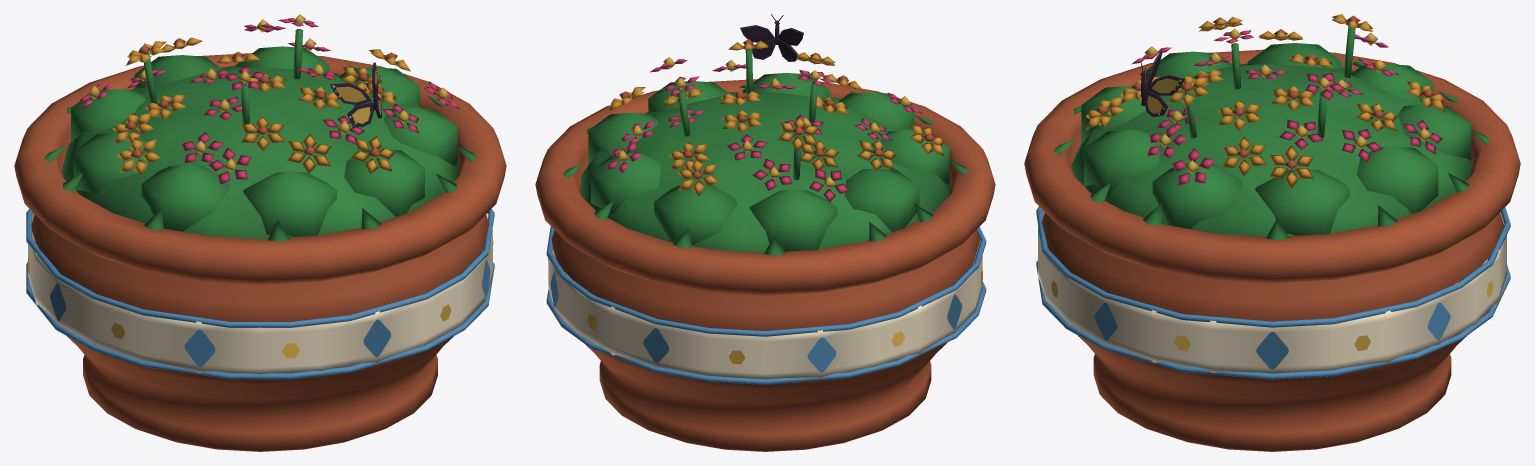
The model's file is flower-planter.glb.
The picture shows the model from 3 angles, left to right: view 1: azimuth 30°, elevation 25°; view 2: azimuth 150°, elevation 25°; view 3: azimuth 270°, elevation 25°; orthographic projection. The views are drawn at different scales.
Visible parts, largest first — view 1: flower-planter; view 2: flower-planter; view 3: flower-planter.
Part boxes in pixels (x1=…): flower-planter: x1=14, y1=14, x2=506, y2=451; flower-planter: x1=535, y1=14, x2=995, y2=451; flower-planter: x1=1024, y1=14, x2=1520, y2=451.
Bounding box in the file's own units: 1.18 × 0.8942 × 1.18.
